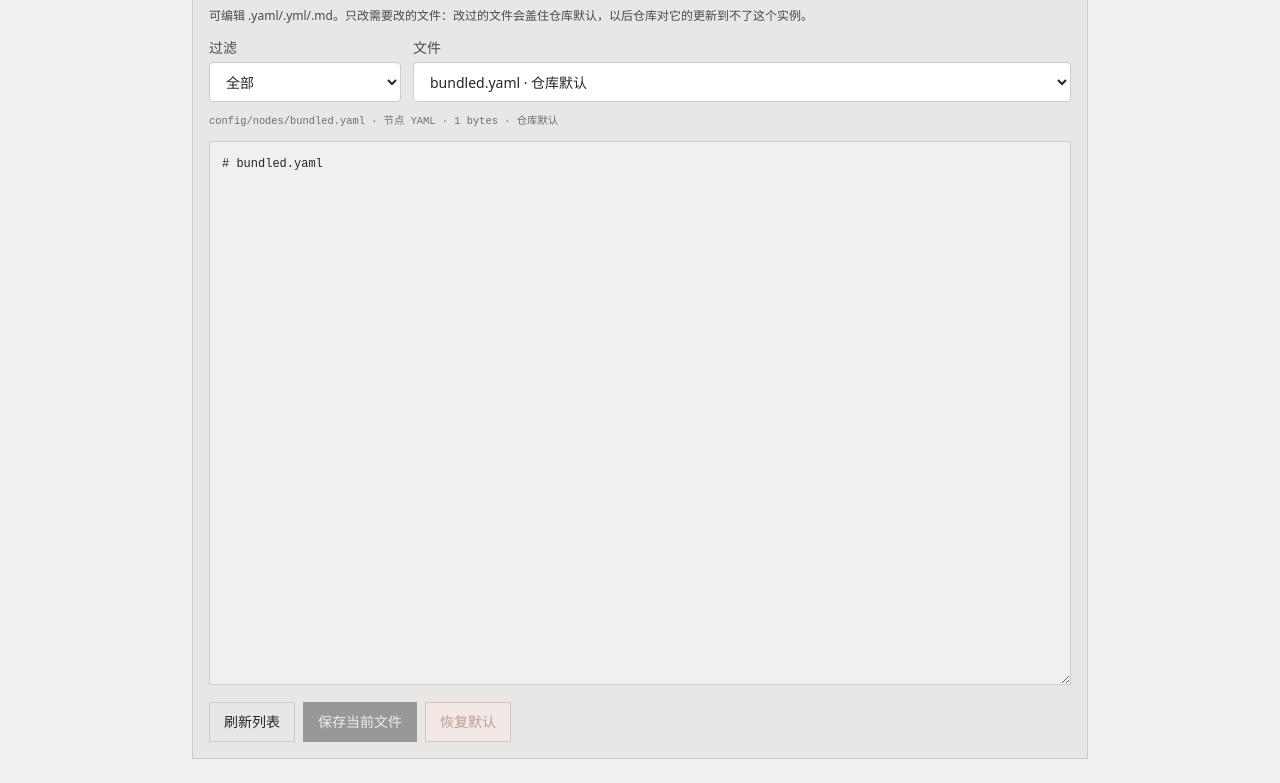
Test: 节点文件的来源与删除 › 保存仓库默认那份会重读列表：它从此归本实例了
(page scrolled)
Replace the text in the text box named "文件内容" with "# 本实例的改法" at (640, 413), box 209,141 -> 1071,685
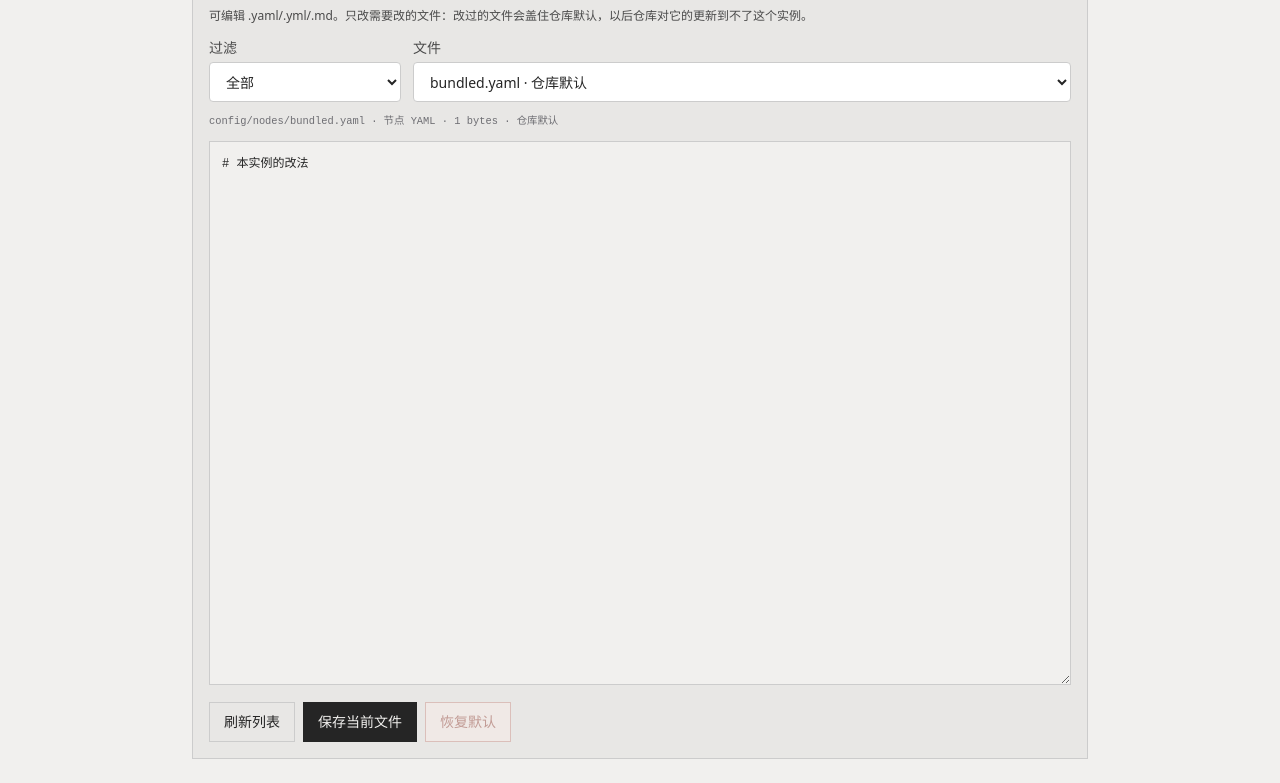
Click the button "保存当前文件".
click(360, 722)  # box 303,702 -> 417,742
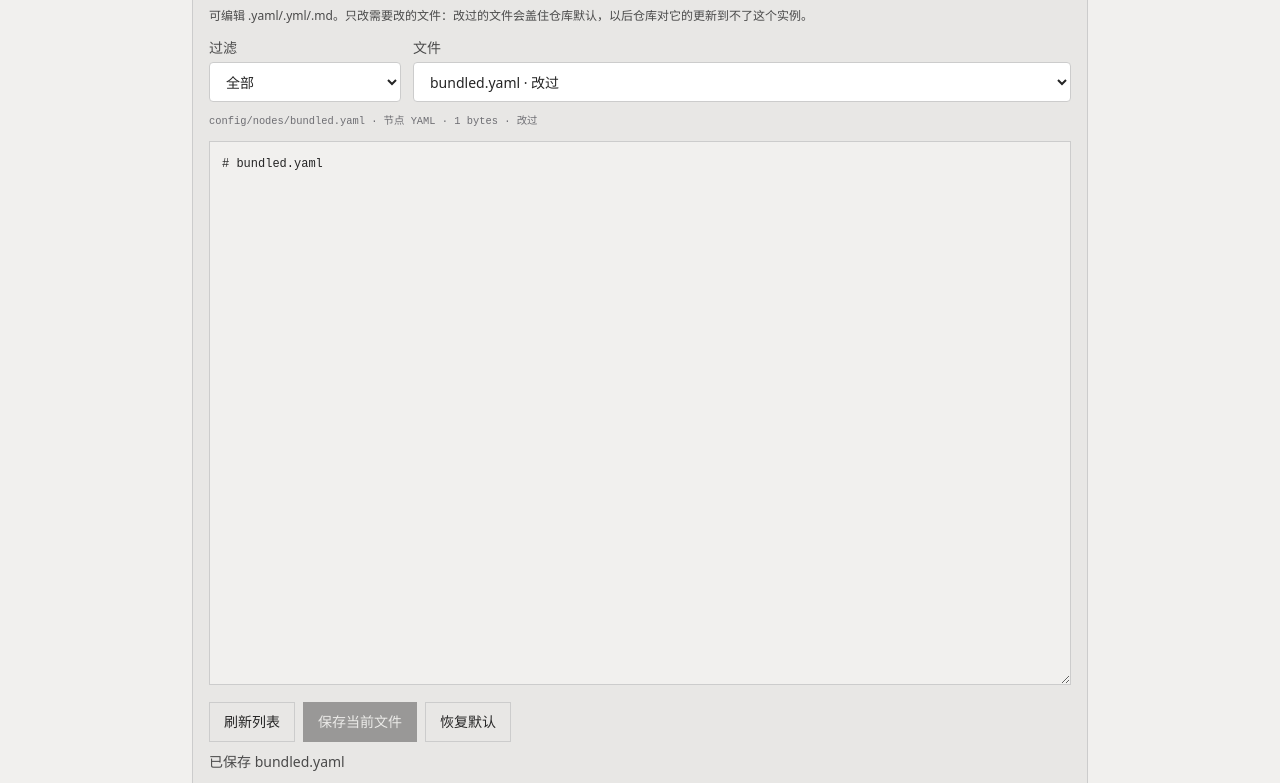
Result: the message reads "已保存 bundled.yaml" at 209,752 -> 345,771
Result: the button "恢复默认" is enabled at 425,702 -> 511,742
